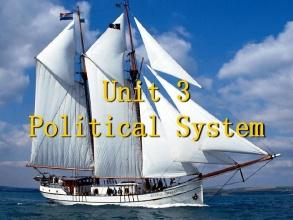fanchuan: (27, 11, 274, 201)
